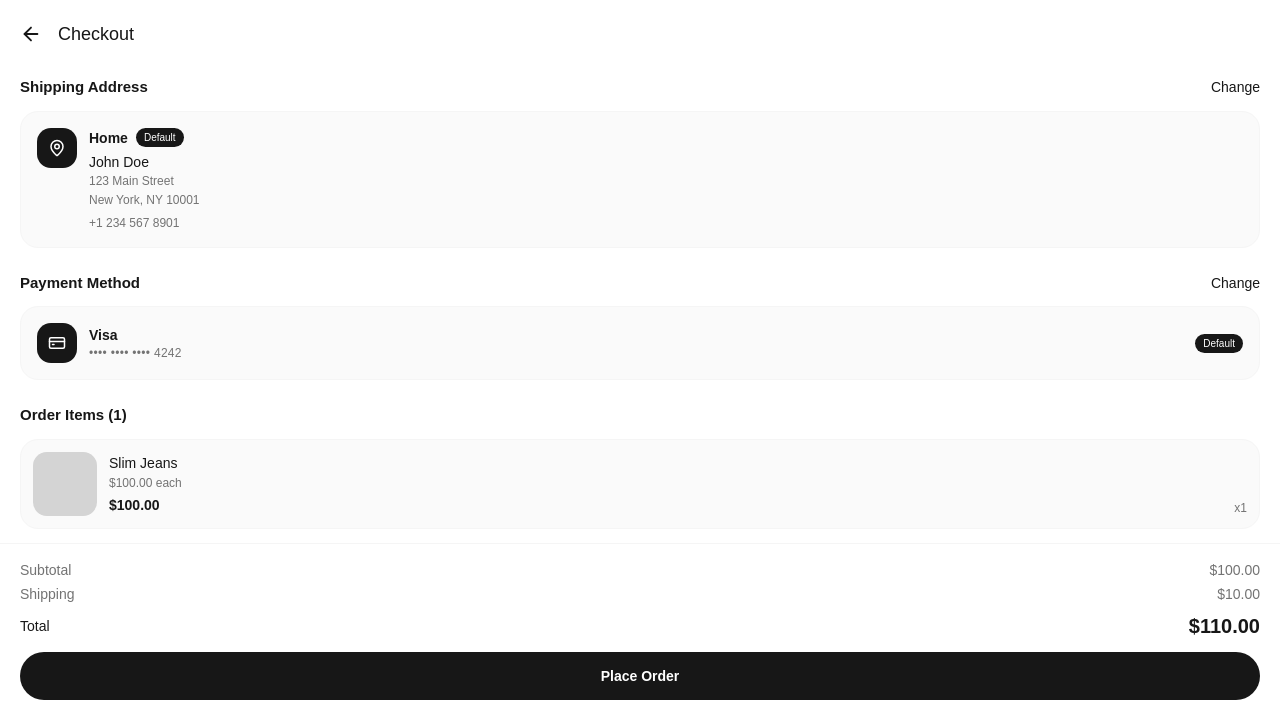
Checkout -> OrderPlaced (integration) › Place Order di Checkout membuka halaman OrderPlaced
Click the button "Place Order": (640, 676) [20,652,1260,700]
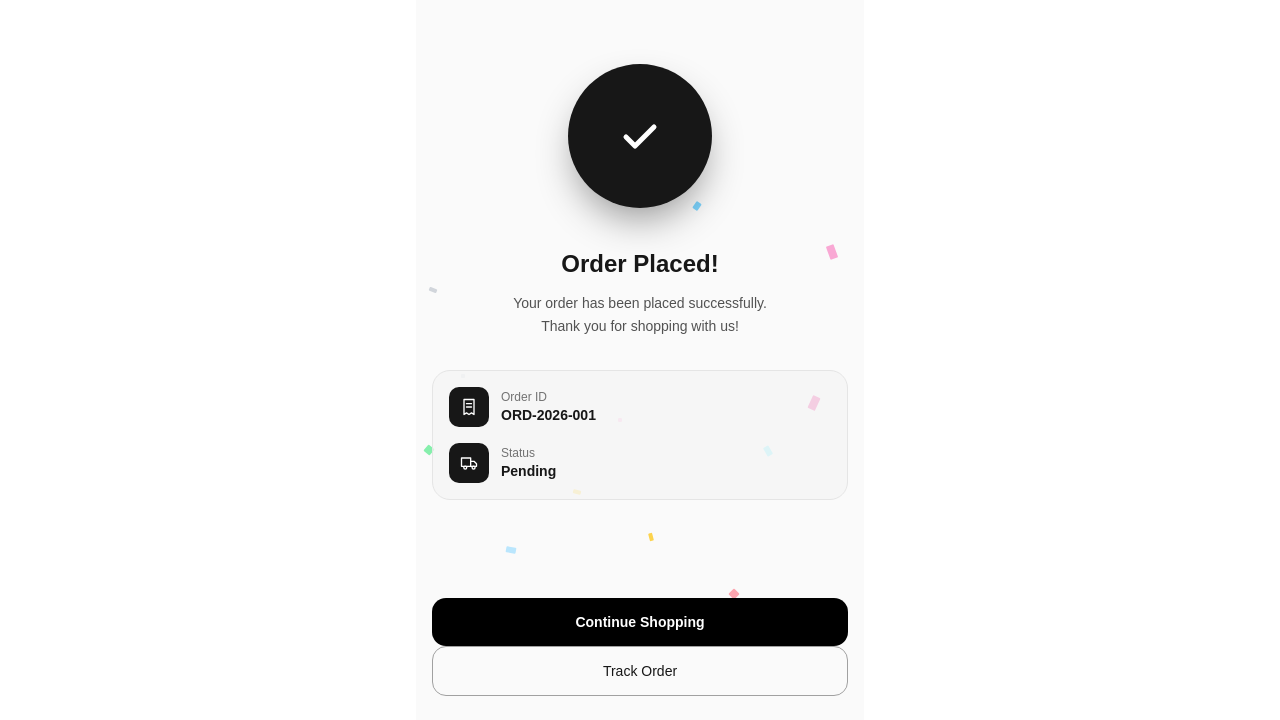
Check: the heading "Order Placed!" is shown, box [561,248,719,280]
Check: the text "ORD-2026-001" is shown, box [501,404,596,424]
Check: the text "Pending" is shown, box [501,460,556,480]
